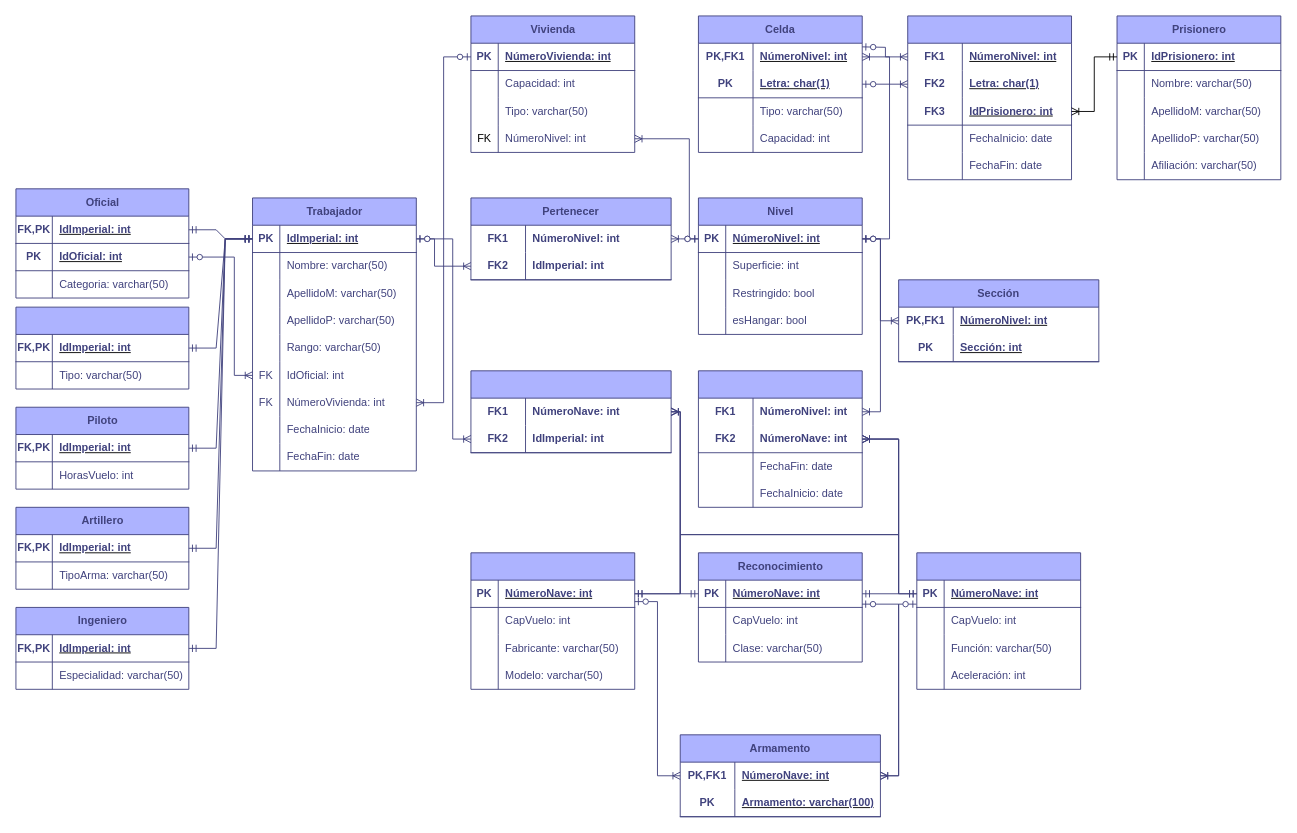
This 1297x833 diagram has some shape labels left out. Each missing label, with the box of its shape:
Alojar: (698, 370, 862, 507)
Asignar: (470, 370, 671, 453)
Caza: (916, 552, 1081, 689)
Destructor: (470, 552, 635, 689)
Ingresar: (907, 15, 1072, 180)
Soldado: (15, 306, 189, 389)
